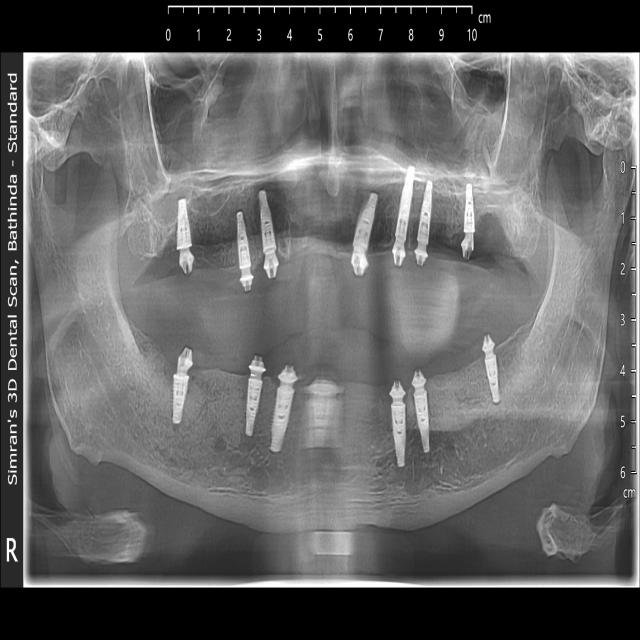Implant: (268, 363, 297, 453), (392, 165, 415, 267), (353, 190, 378, 274), (258, 179, 275, 279), (245, 357, 266, 436), (171, 349, 193, 424), (411, 372, 430, 454), (235, 216, 254, 296), (415, 180, 432, 269), (177, 197, 195, 276), (390, 378, 406, 466), (483, 337, 500, 405), (461, 181, 475, 262)
Missing teeth: (302, 364, 385, 438), (427, 355, 493, 435), (197, 357, 244, 421), (286, 222, 349, 267), (202, 239, 236, 280), (433, 218, 460, 254), (372, 227, 393, 263)
